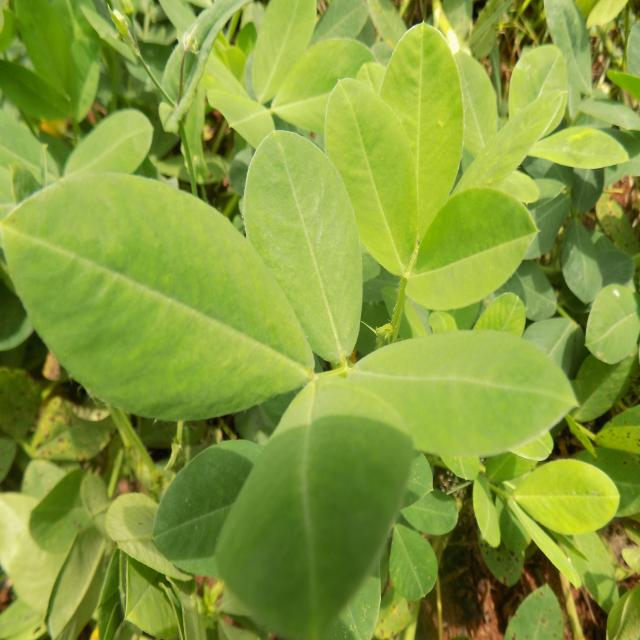Ground nut_healthy: (0, 175, 314, 415), (216, 384, 411, 633), (342, 329, 578, 458), (242, 131, 363, 361), (327, 83, 421, 280), (384, 18, 464, 232)
